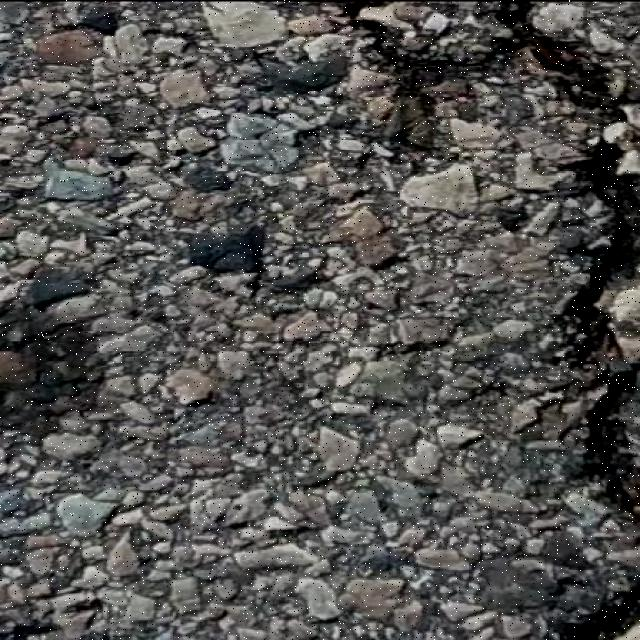Crack: (341, 0, 640, 522), (562, 581, 640, 640)
